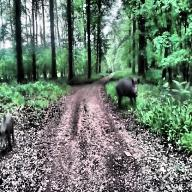boar: (115, 53, 146, 113)
